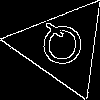Q: (37, 21, 86, 75)
